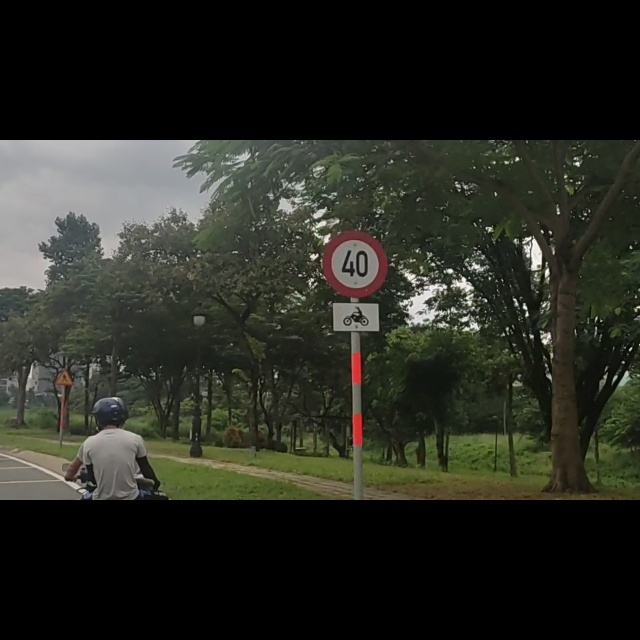bien_nguy_hiem: (323, 159, 390, 281), (55, 404, 75, 439)
